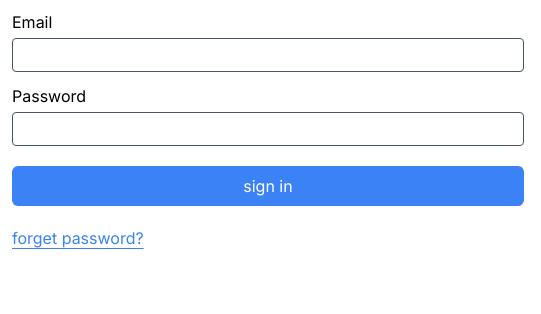
<SignInForm /> component tests › should display valid email error when email is invalid and min error when password is less than 6 characters
The image size is (541, 314).
Type "invalid@i" into the field labelled "Email" at point(268, 55), box 12,38 -> 524,72
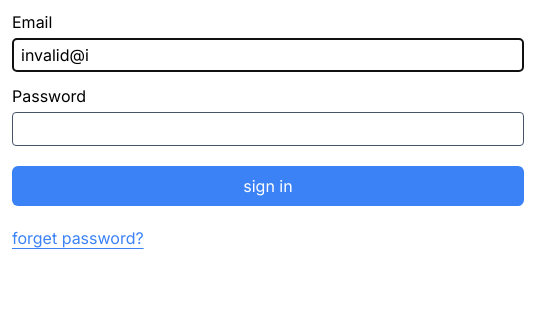
Type "12345" into the password field labelled "Password" at point(268, 129), box 12,112 -> 524,146
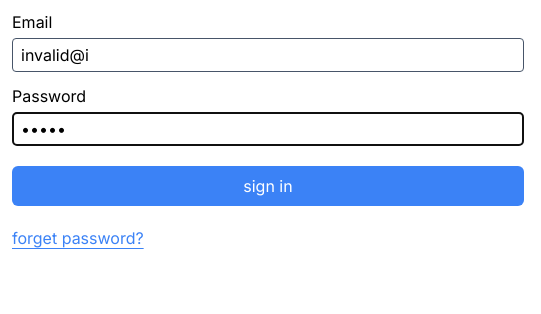
Click the button at point(268, 186), box 12,166 -> 524,206
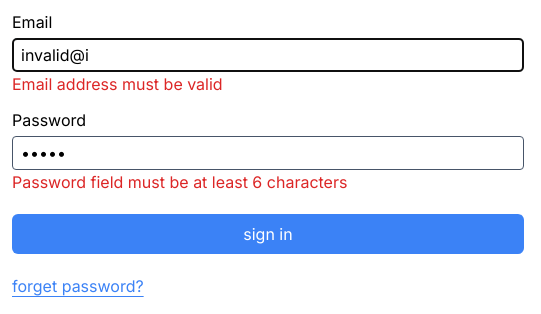
expect the text "Email address must be valid" is shown: met, box 12,74 -> 223,94
expect the text "Password field must be at least 6 characters" is shown: met, box 12,172 -> 347,192
